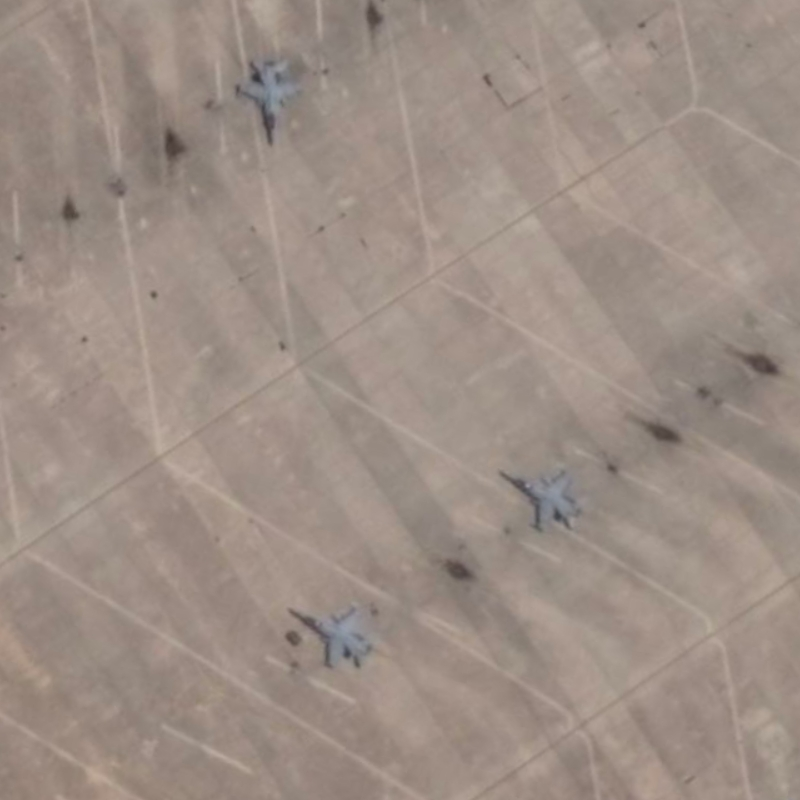A16: (226, 49, 310, 154), (282, 595, 381, 675), (491, 458, 590, 537)
